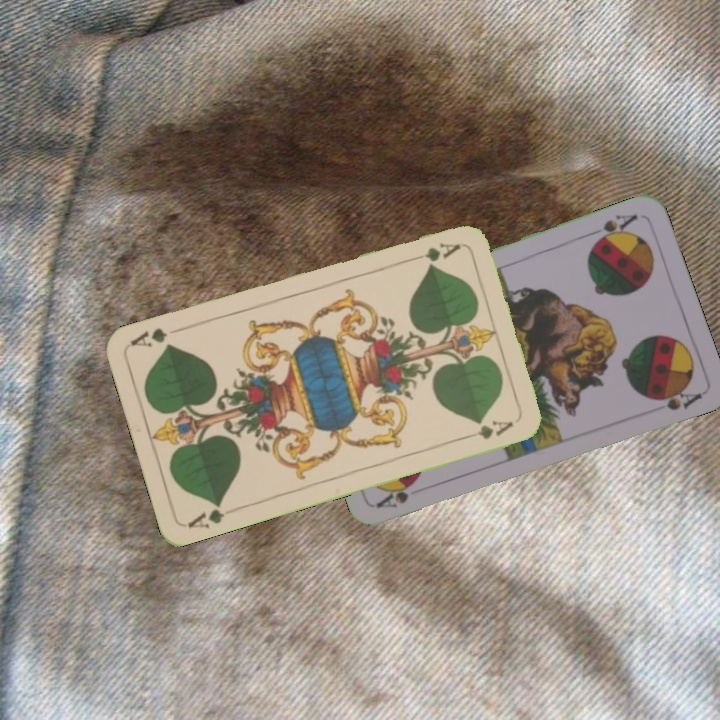GA: (183, 497, 228, 531), (420, 239, 463, 268)
SA: (584, 210, 640, 247), (373, 481, 416, 511)
